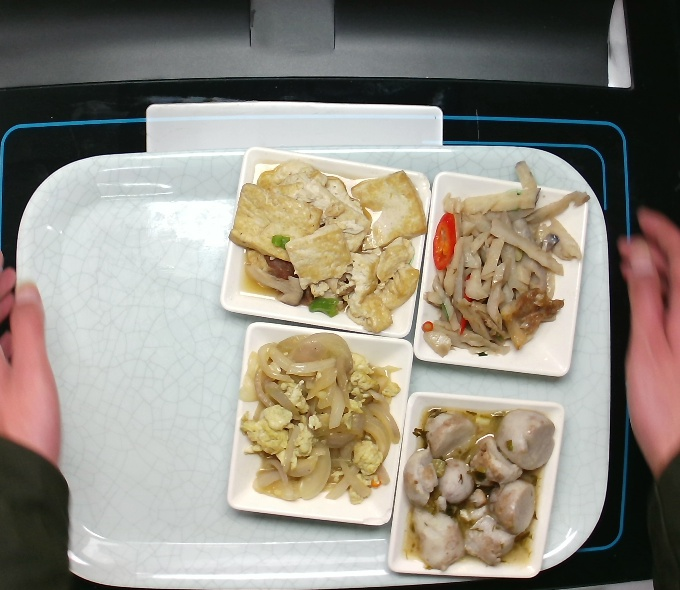wcq-JiaChangDouFu: (225, 160, 431, 332)
wcq-QingChaoOuPian: (414, 160, 593, 356)
wcq-YangCongChaoDan: (234, 326, 404, 504)
wcq-YangYu: (401, 403, 558, 570)
